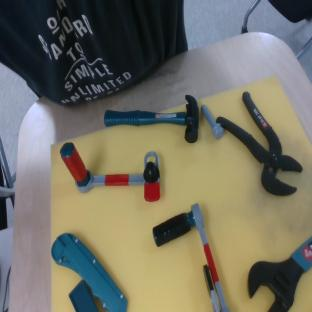non_pass: (148, 203, 230, 312)
pass: (56, 142, 164, 202)
